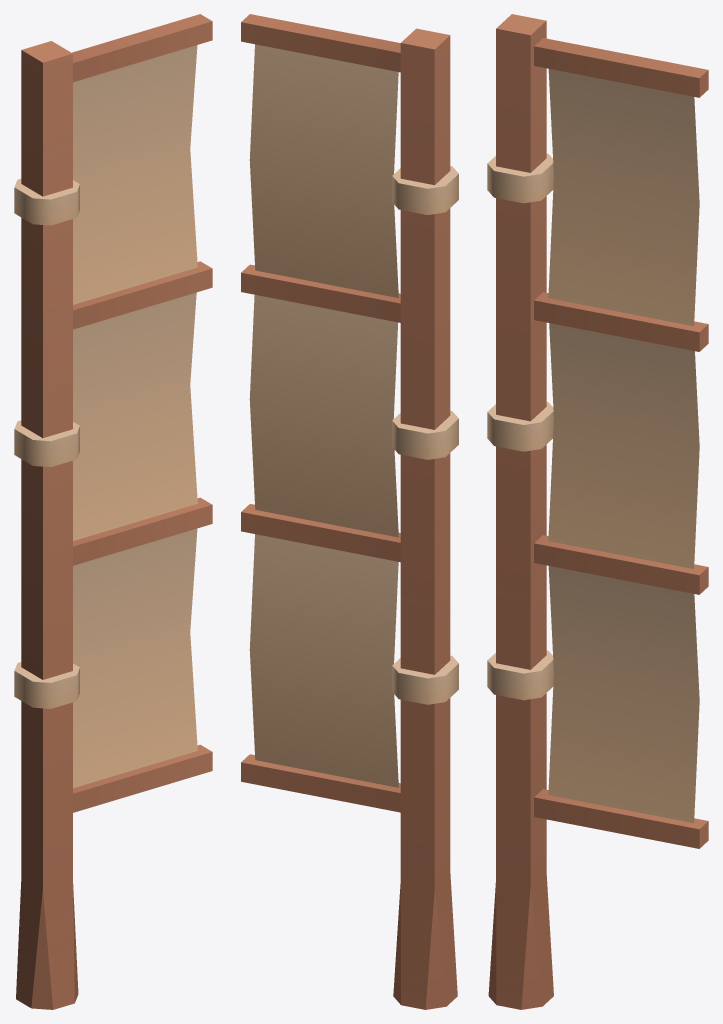
The model's file is blade_lev1.glb.
The picture shows the model from 3 angles, left to right: view 1: azimuth 30°, elevation 25°; view 2: azimuth 150°, elevation 25°; view 3: azimuth 330°, elevation 25°; orthographic projection. The views are drawn at different scales.
Visible parts, largest first — view 1: blade_lev1; view 2: blade_lev1; view 3: blade_lev1.
Part boxes in pixels (<box>): blade_lev1: <box>14,14,212,1009</box>; blade_lev1: <box>241,14,458,1009</box>; blade_lev1: <box>487,14,708,1009</box>.
Size of the model in its own units: 3.57 by 16.48 by 0.96.
Materials: 1 (1 with a texture image).
